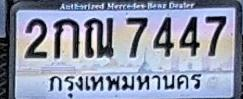2: (24, 18, 47, 58)
4: (179, 15, 199, 55), (154, 16, 174, 56)
7: (126, 16, 148, 57), (205, 14, 226, 55)
A01: (53, 17, 79, 58)
A19: (84, 17, 114, 58)
BKK: (45, 71, 205, 92)
